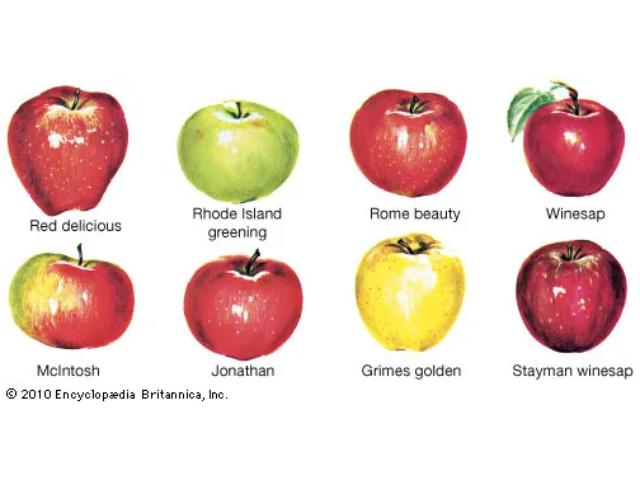green apple: (356, 233, 466, 353), (177, 100, 300, 205)
red apple: (8, 85, 129, 217), (183, 249, 303, 362), (9, 243, 135, 350), (509, 80, 625, 196), (350, 89, 469, 198), (516, 240, 629, 353)
